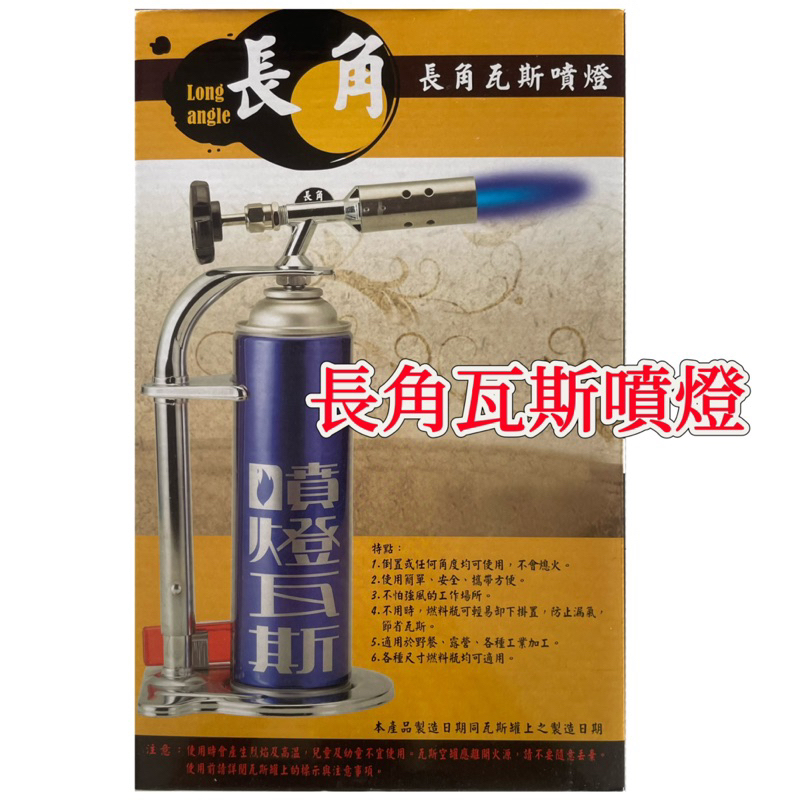gastorch: (154, 177, 472, 717)
